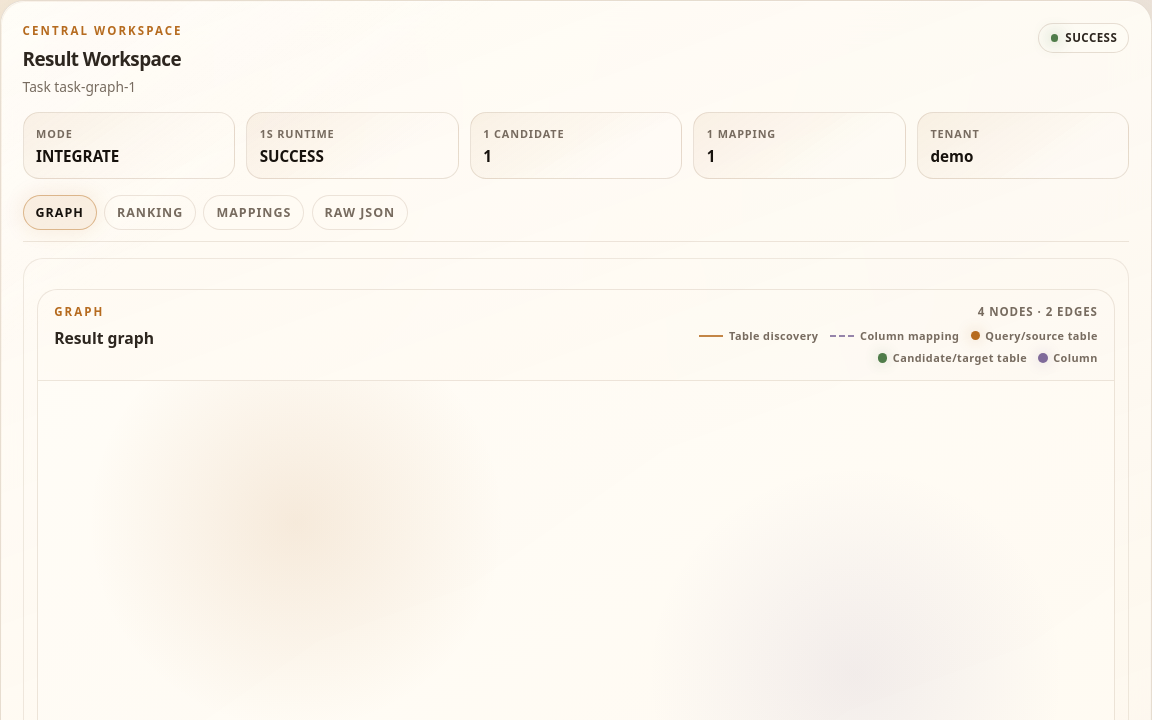
Test case: ResultWorkspace › switches between graph, ranking, mappings, and raw JSON result views
This screenshot has width=1152, height=720.
Click the tab "Ranking". click: point(150, 213)
box: [104,195,196,230]
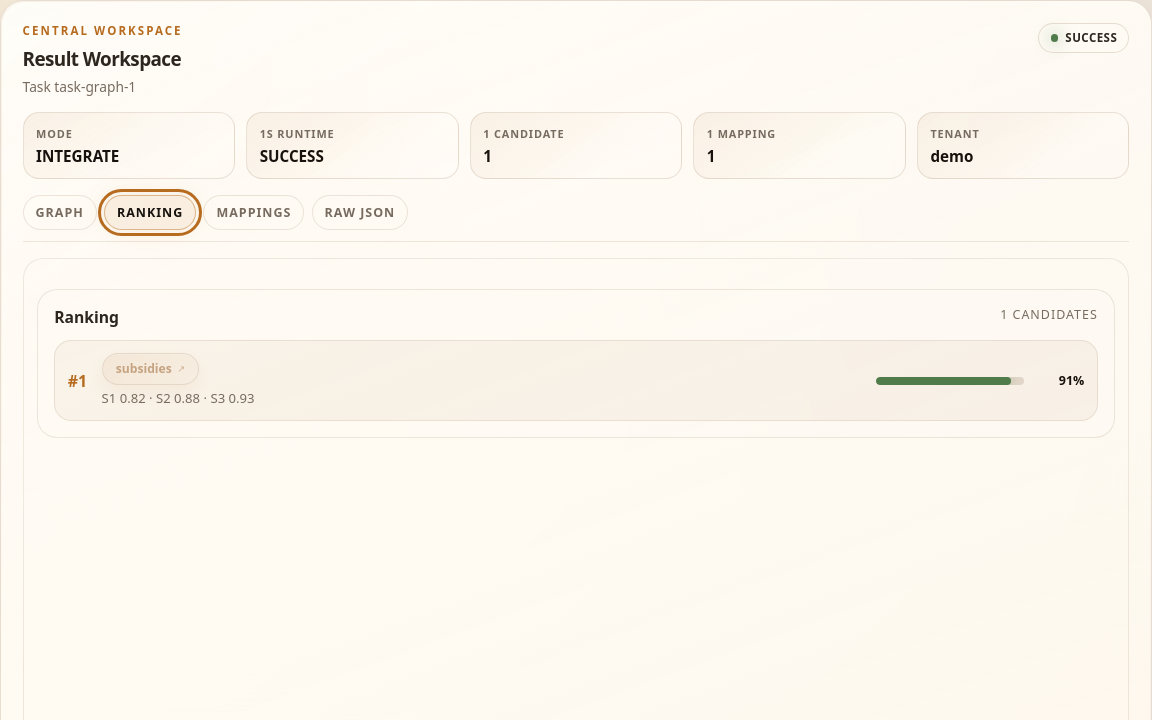
Now the button "subsidies" is shown, box [102,354,199,385]
Now the heading "Result graph" is gone
Click the tab "Mappings". click: point(254, 213)
box: [204,195,304,230]
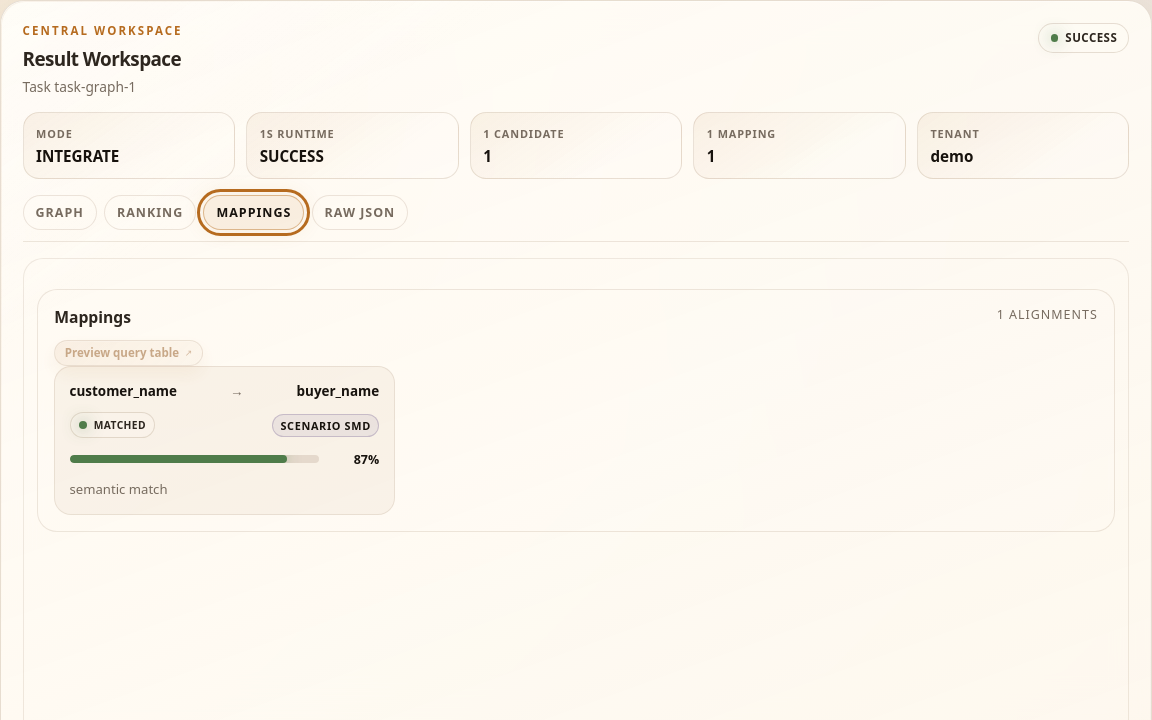
Now the text "customer_name" is shown, box [70,382,177,400]
Now the text "buyer_name" is shown, box [296,382,379,400]
Click the tab "Raw JSON". click: point(360, 213)
box: [312,195,408,230]
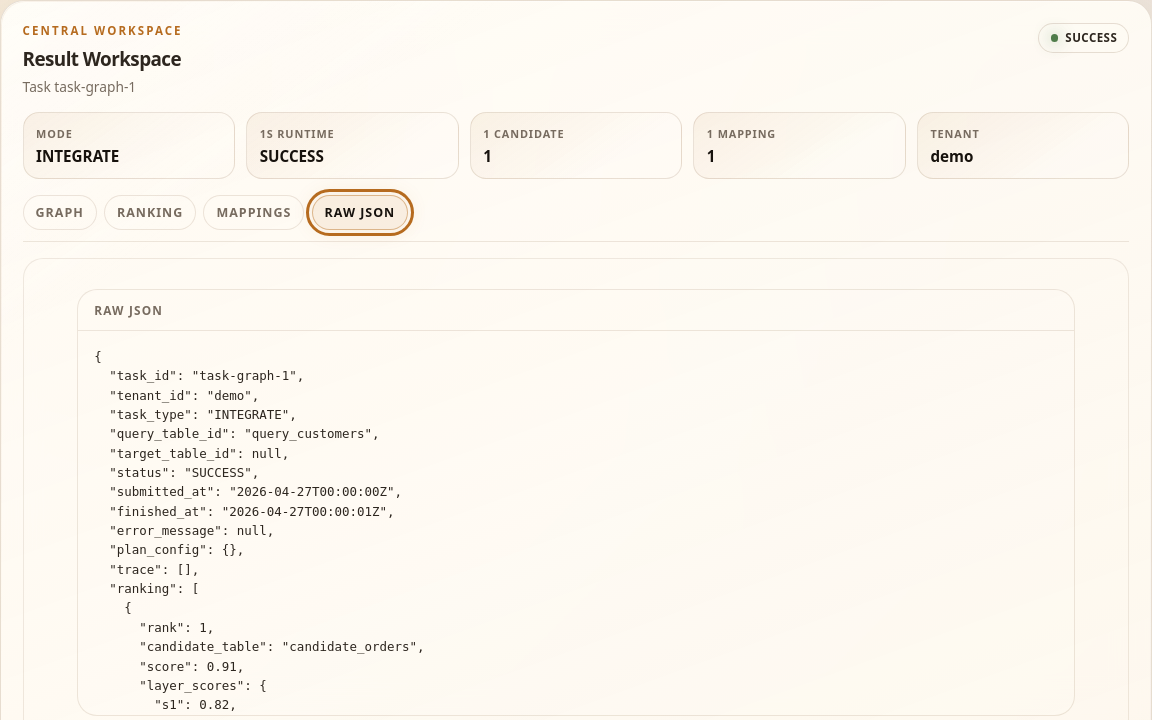
Click the tab "Graph". click: point(60, 213)
box: [23,195,97,230]
(page scrolled)
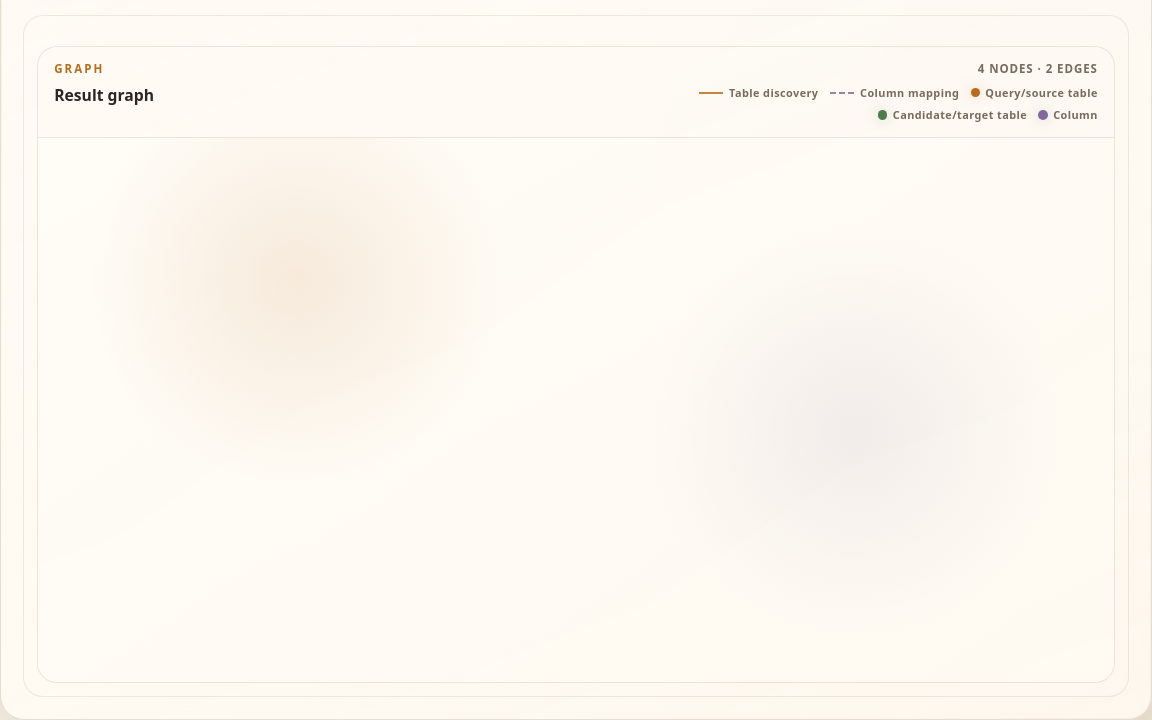
Now the element "Result graph" is shown
